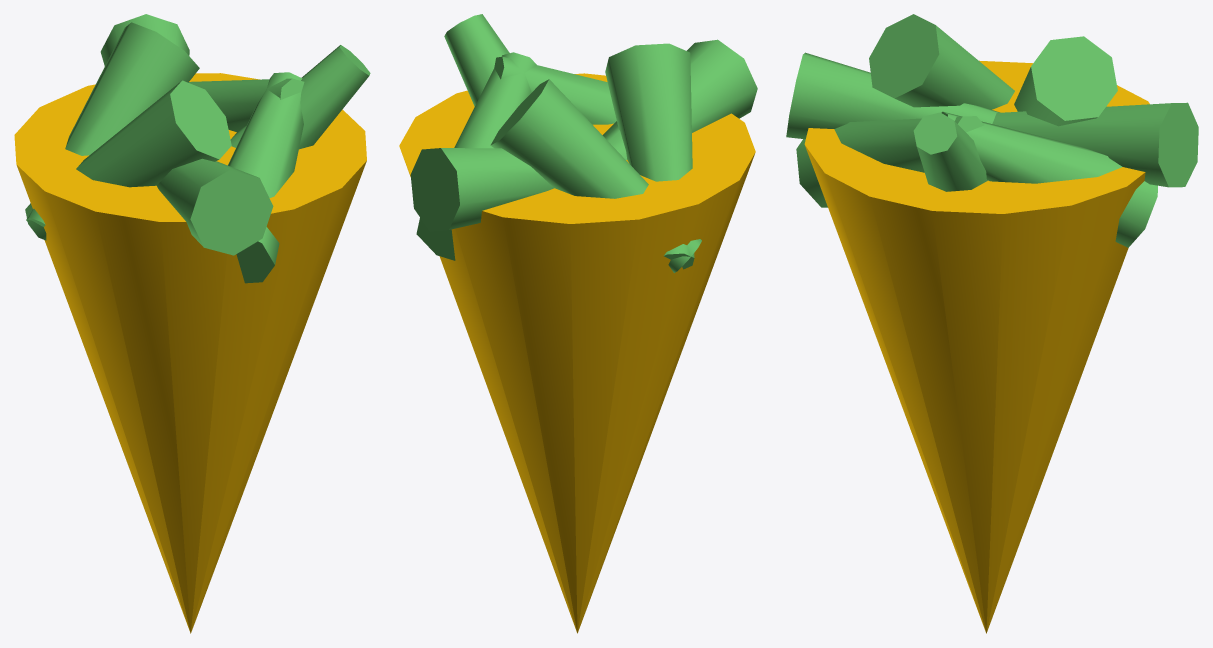
Rendered from carrot.glb.
3 views of the same model, side by side, from view 1: azimuth 30°, elevation 25°; view 2: azimuth 150°, elevation 25°; view 3: azimuth 270°, elevation 25° (orthographic). The views are drawn at different scales.
Size of the model in its own units: 0.7966 by 1.43 by 0.9033.
